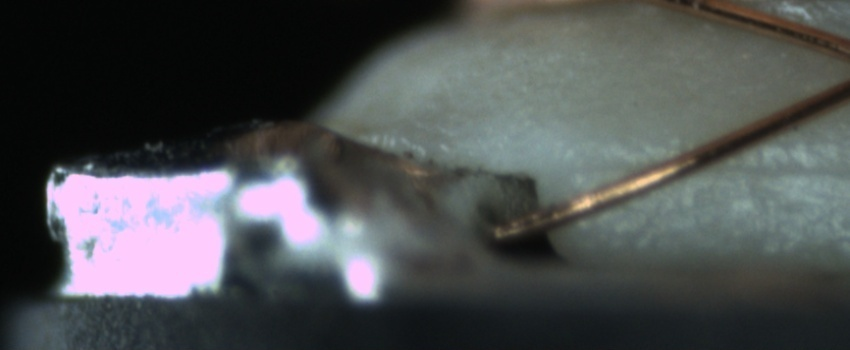DL: (607, 132, 846, 202)
